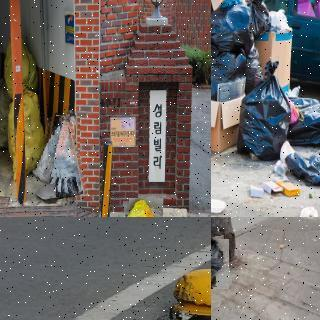Garbage: (238, 60, 296, 160), (52, 114, 84, 198), (211, 3, 252, 54), (38, 115, 66, 185), (287, 97, 320, 146), (211, 52, 240, 100), (286, 148, 320, 187), (241, 0, 274, 37), (211, 237, 230, 291), (126, 197, 166, 217)
